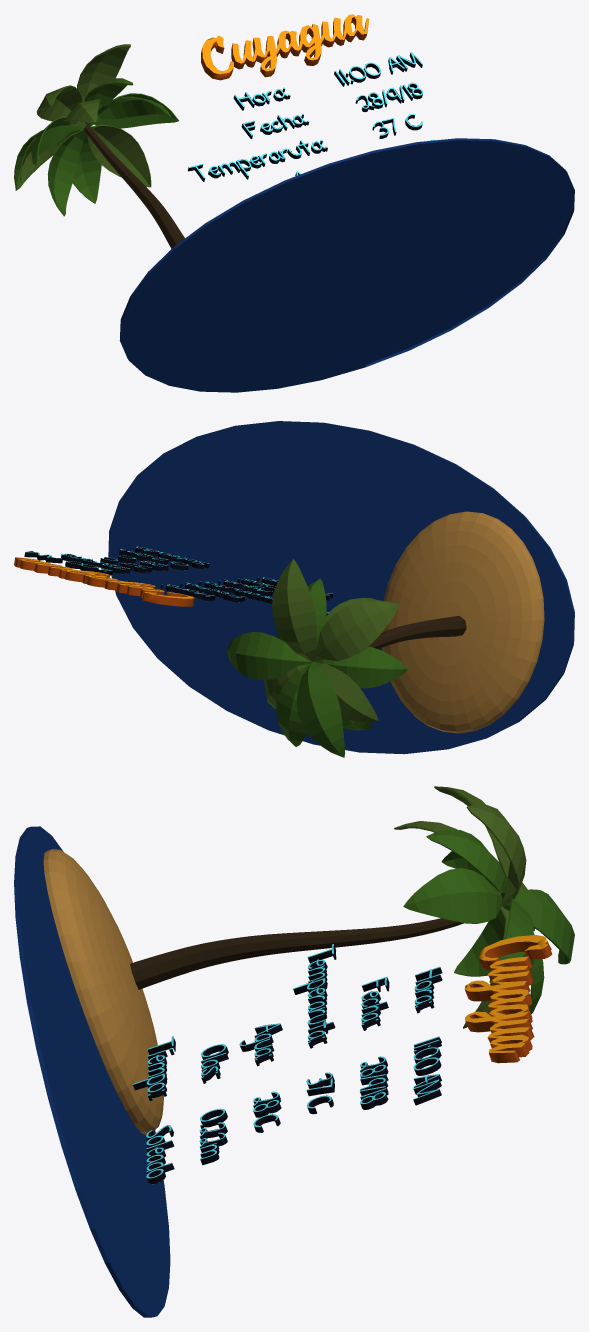
The model's file is cuyagua-palmultimateROT.obj.
3 views of the same model, one above another, from view 1: azimuth 30°, elevation 25°; view 2: azimuth 150°, elevation 25°; view 3: azimuth 270°, elevation 25° (orthographic). The views are drawn at different scales.
Visible parts, largest first — view 1: Cylinder, Palm-tree_Cylinder.000, Text.000; view 2: Cylinder, Sphere.001, Palm-tree_Cylinder.000, Text.000; view 3: Cylinder, Palm-tree_Cylinder.000, Text.000, Sphere.001.
Part boxes in pixels (<box>): Cylinder: <box>119,138,574,392</box>; Palm-tree_Cylinder.000: <box>14,44,184,248</box>; Text.000: <box>187,14,435,181</box>; Cylinder: <box>108,421,574,754</box>; Sphere.001: <box>382,511,544,733</box>; Palm-tree_Cylinder.000: <box>227,559,466,757</box>; Text.000: <box>14,546,332,615</box>; Cylinder: <box>14,826,170,1317</box>; Palm-tree_Cylinder.000: <box>130,786,574,1028</box>; Text.000: <box>132,935,552,1184</box>; Sphere.001: <box>43,849,163,1135</box>.
Bounding box in the file's own units: 3.92 × 2.31 × 2.96.
